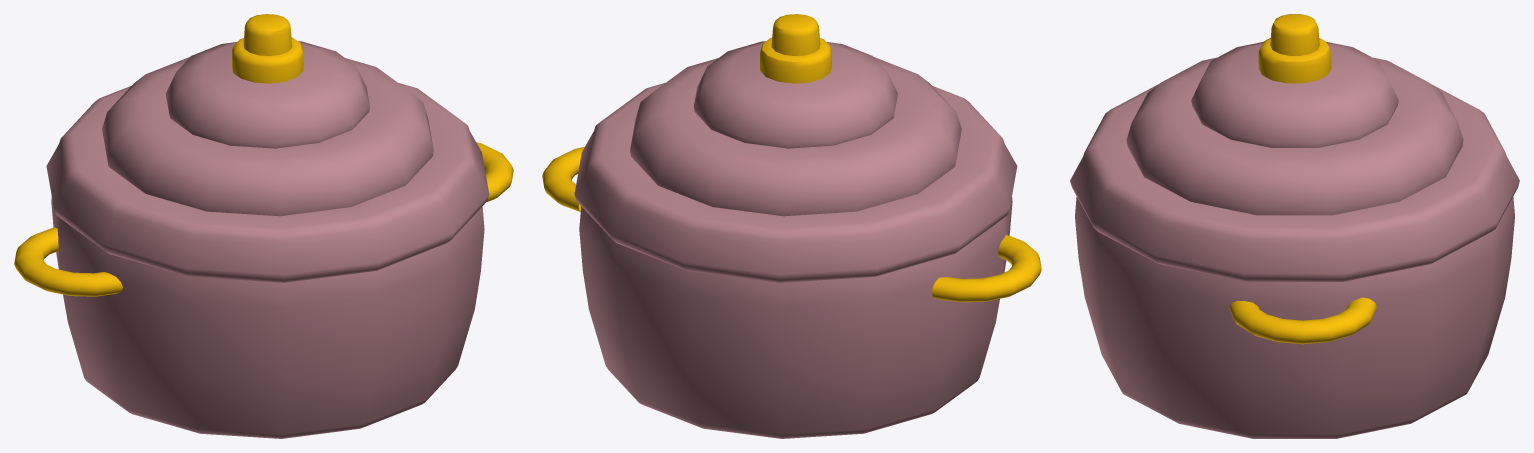
The model's file is Food Pot_2.fbx.
3 renders of one model, left to right at view 1: azimuth 30°, elevation 25°; view 2: azimuth 150°, elevation 25°; view 3: azimuth 270°, elevation 25°, orthographic.
Parts seen in each view (by area): view 1: Food Pot Cover_2, Food Pot_2; view 2: Food Pot Cover_2, Food Pot_2; view 3: Food Pot Cover_2, Food Pot_2.
Part boxes in pixels (left/top/right/bottom): Food Pot Cover_2: left=46, top=14, right=489, bottom=282; Food Pot_2: left=14, top=142, right=513, bottom=438; Food Pot Cover_2: left=574, top=14, right=1017, bottom=282; Food Pot_2: left=542, top=147, right=1041, bottom=438; Food Pot Cover_2: left=1070, top=14, right=1519, bottom=281; Food Pot_2: left=1075, top=197, right=1514, bottom=438.
Bounding box in the file's own units: 0.2796 × 0.1894 × 0.2255.
